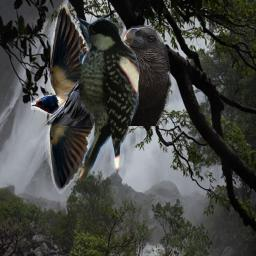Crow: (42, 24, 173, 126)
Swallow: (31, 4, 172, 195)
Woodpecker: (76, 17, 140, 181)
